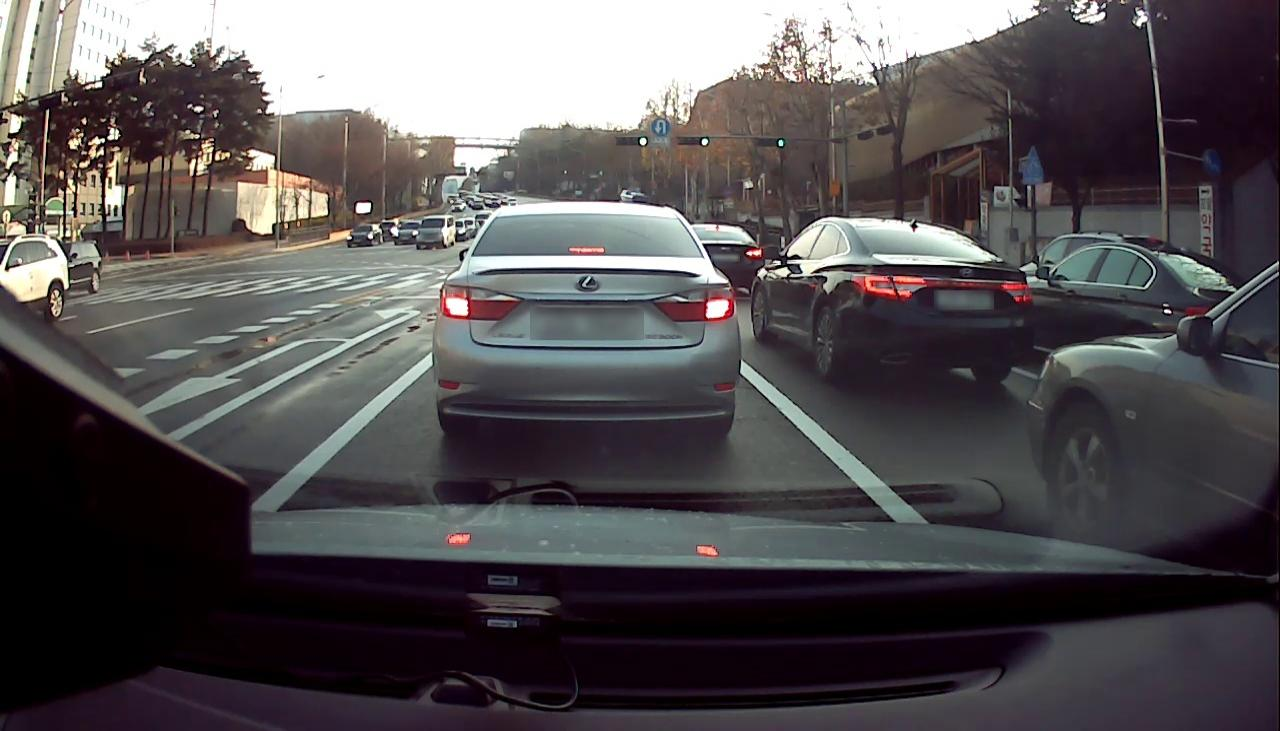Green Light: (637, 136, 648, 146), (775, 138, 786, 147), (700, 137, 710, 146)
